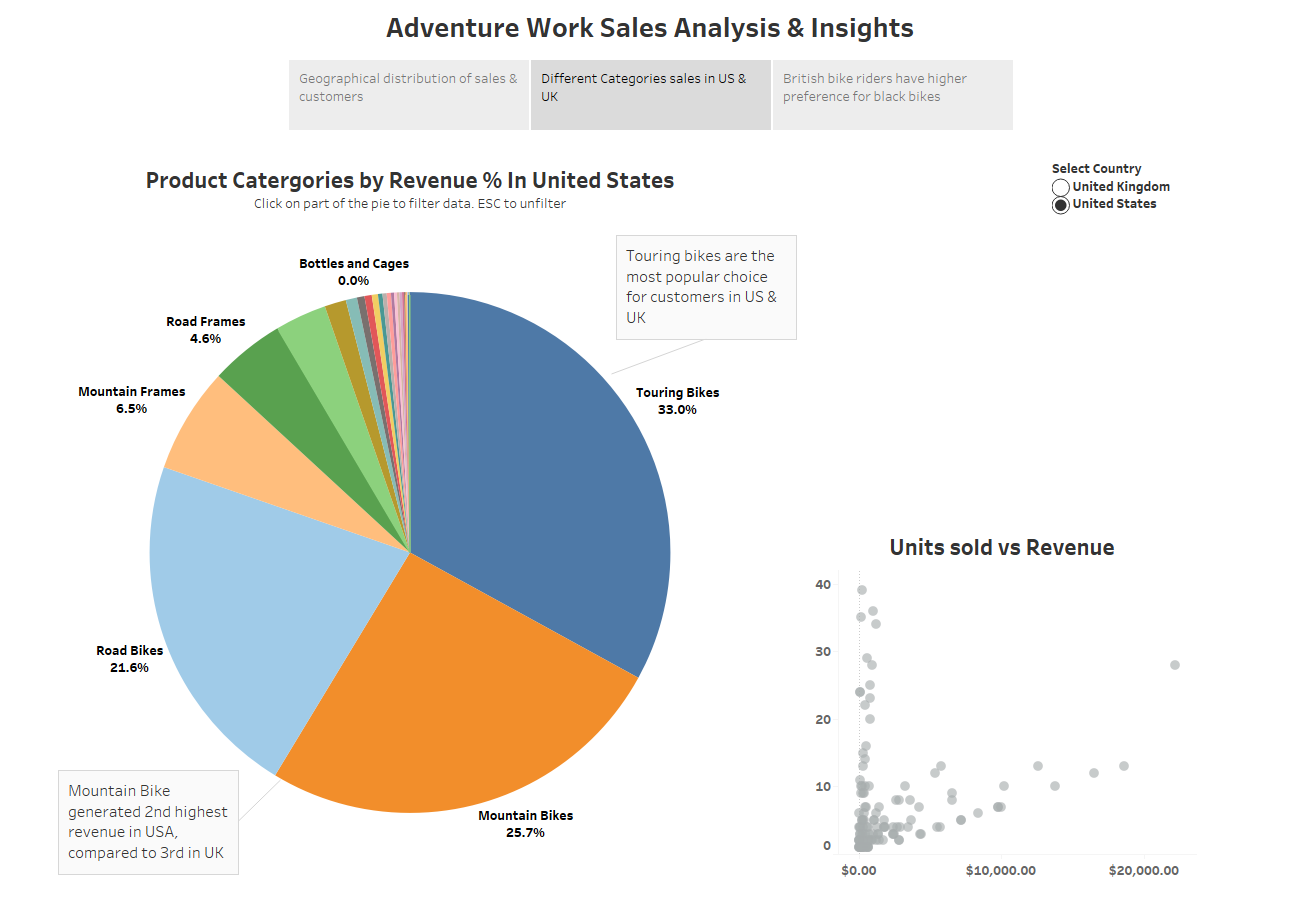

Layout of this report page (visuals, bound fields, positions):
{"tool":"tableau","page":{"name":"Categ Analysis","canvas":[1200,750],"ordinal":0},"visuals":[{"type":"worksheet","title":"Categories by Revenue %","mark":"Pie","box":[8,8,788,734]},{"type":"filter","title":"Categories by Revenue %","param":"[federated.0cq9vs30qhdy5d136ujvi0fw1cl0].[none:CountryRegion:nk]","box":[1040,8,152,367]},{"type":"worksheet","title":"Quantity vs Revenue per Product","mark":"Automatic","rows":["Units"],"cols":["SalesTotal"],"box":[796,375,396,367]}]}

Visuals, with their boxes on the page's 1200x750 design canvas (x1, y1, x2, y2). These are canvas units, not pixel positions in the 1300x900 screenshot, which may show the page scaled, cropped or inside an application window:
"Categories by Revenue %" worksheet (Pie marks): box=[8, 8, 796, 742]
"Categories by Revenue %" filter: box=[1040, 8, 1192, 375]
"Quantity vs Revenue per Product" worksheet: box=[796, 375, 1192, 742]
